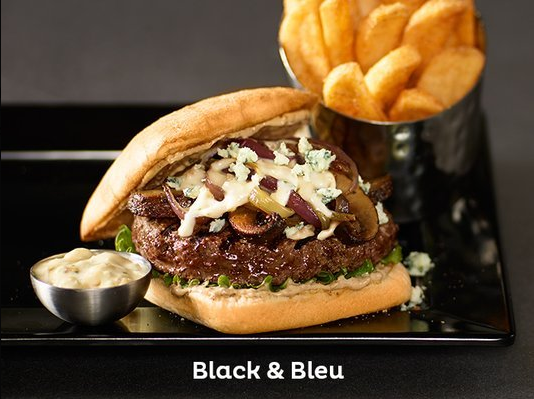soup: (80, 85, 415, 335)
sushi: (28, 247, 153, 327)
